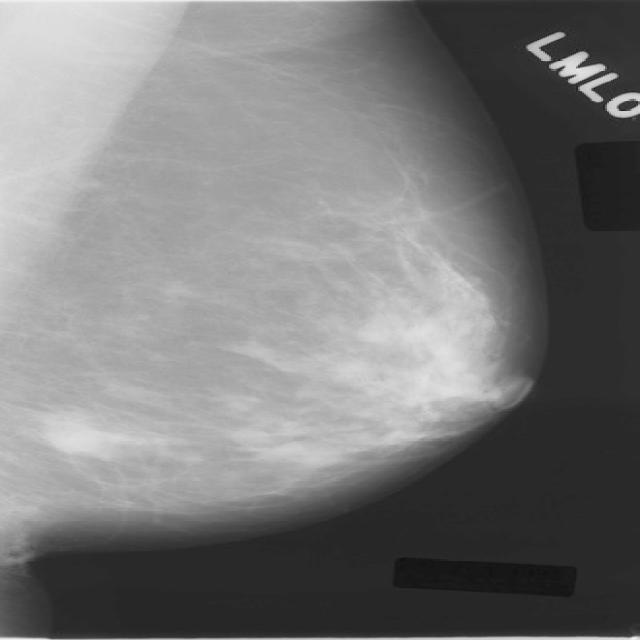tumour: (39, 417, 124, 458)
